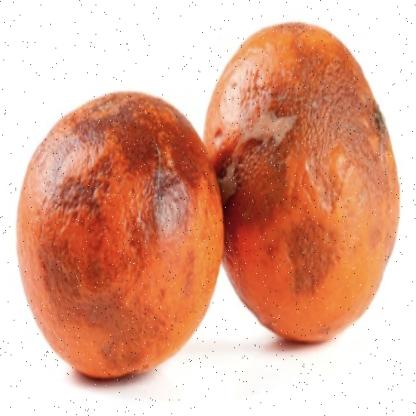rotten: (20, 21, 402, 380)
